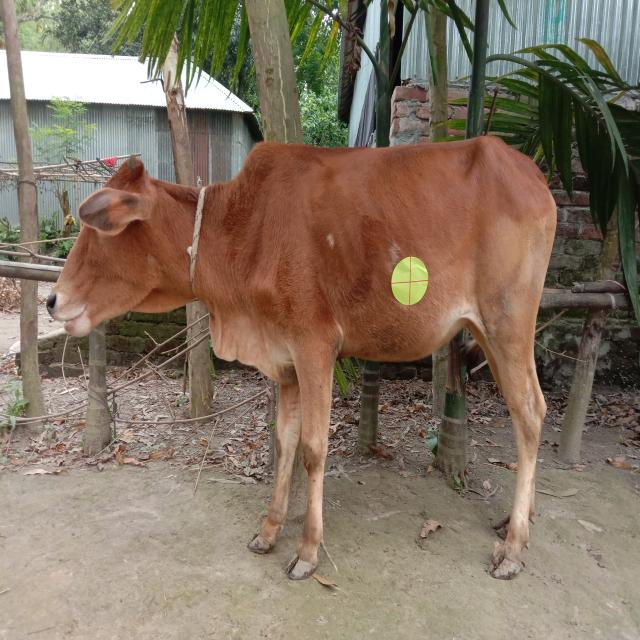badan_sapi: (244, 136, 556, 361)
sapi: (44, 128, 570, 600)
